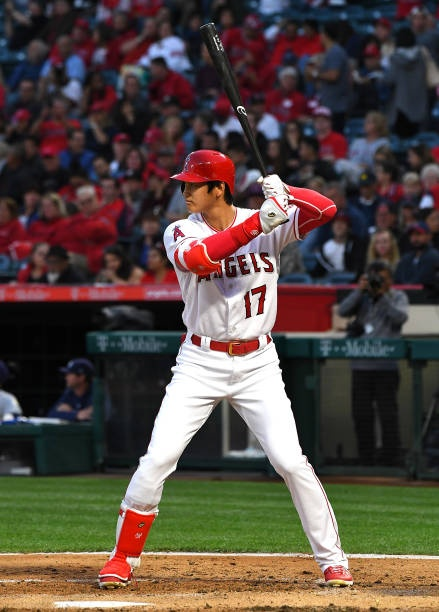bita: (205, 22, 275, 190)
